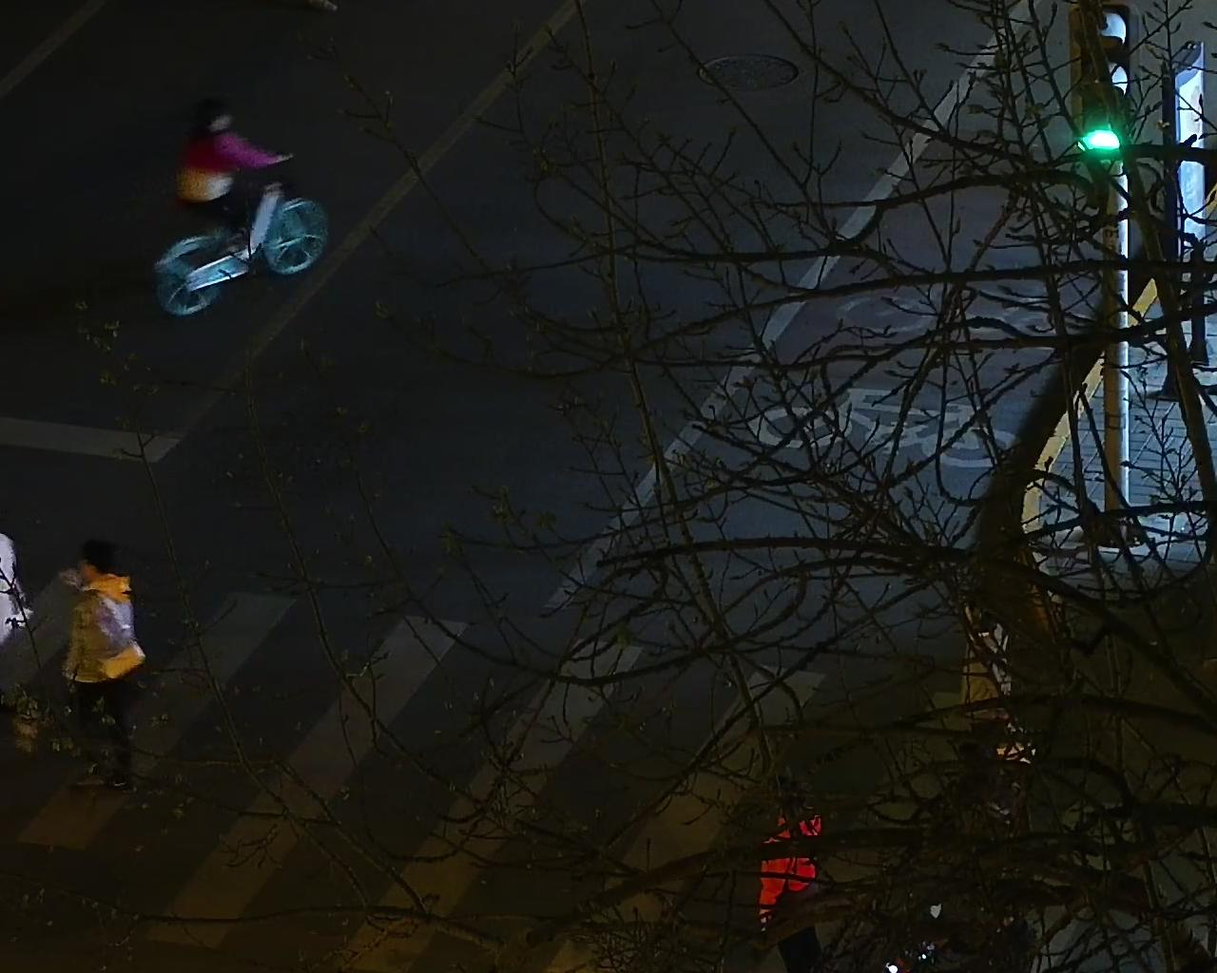person: (59, 550, 145, 783), (179, 91, 277, 272), (765, 771, 838, 973), (962, 723, 1027, 935), (1, 534, 48, 754), (963, 590, 1021, 743)
